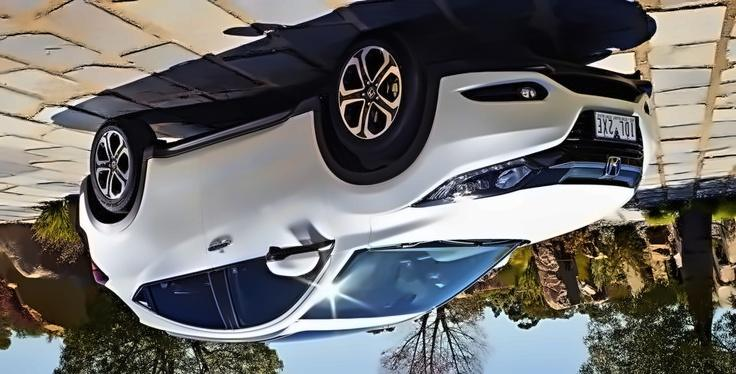Car hood: (369, 178, 640, 251)
Fender - -F-L-: (312, 98, 422, 258)
Fender - -R-L-: (93, 210, 162, 298)
Front bumper: (420, 53, 663, 179)
Headlight - -L-: (406, 153, 546, 212)
Passenger-s door - -F-L-: (206, 110, 314, 335)
Passenger-s door - -R-L-: (136, 131, 222, 334)
Rear bumper: (66, 172, 101, 219)
Rear light - -L-: (82, 253, 112, 286)
Side bumper - -L-: (136, 93, 331, 161)
Side mirror - -L-: (259, 241, 333, 277)
Side mirror - -R-: (490, 251, 522, 275)
